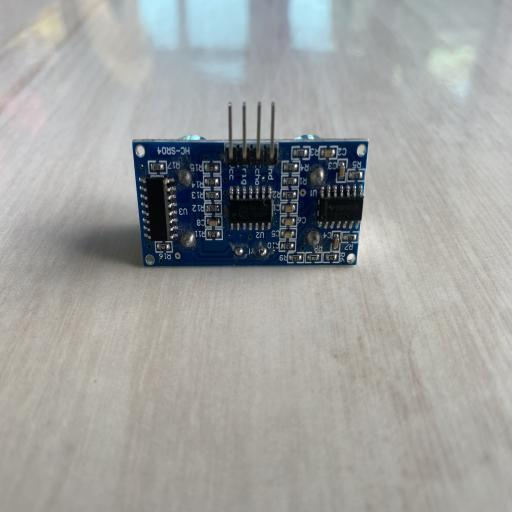Ultrasonic Sensor: (132, 99, 369, 268)
